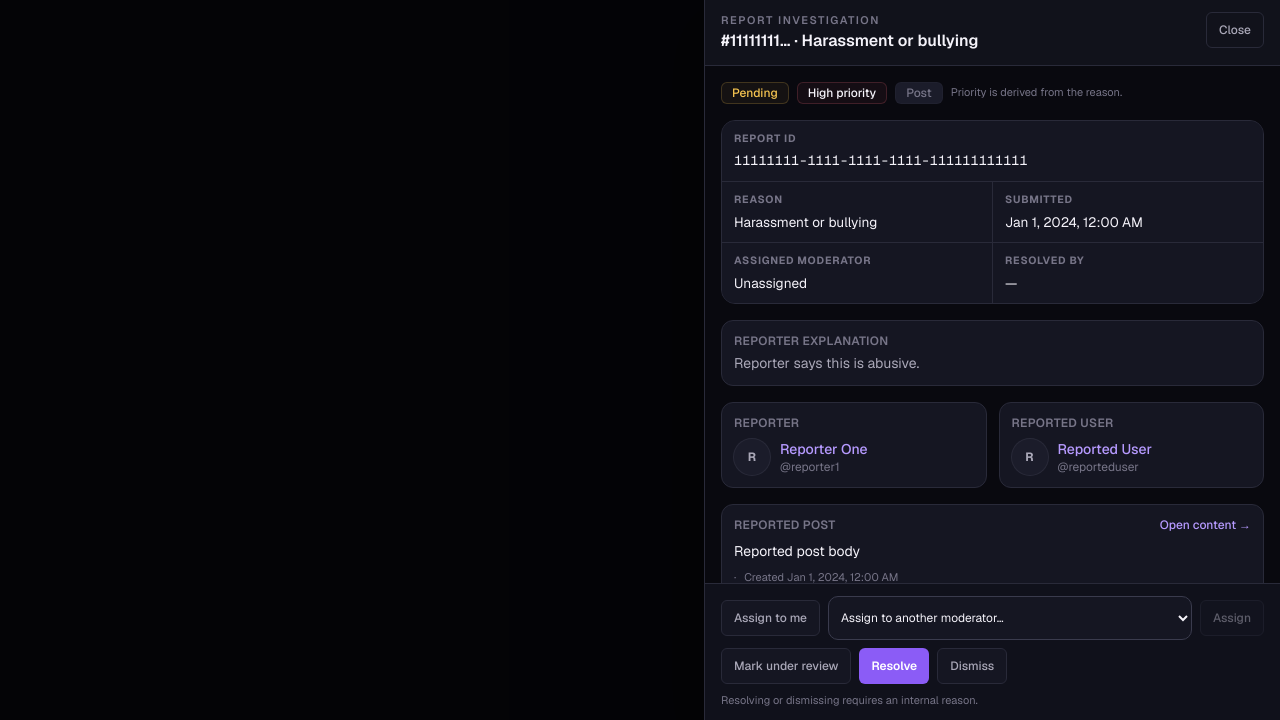
ReportDetailPanel › requires a reason before resolving
The image size is (1280, 720).
Step 1. Click the button "Resolve" → (894, 666), box [860,648,929,684]
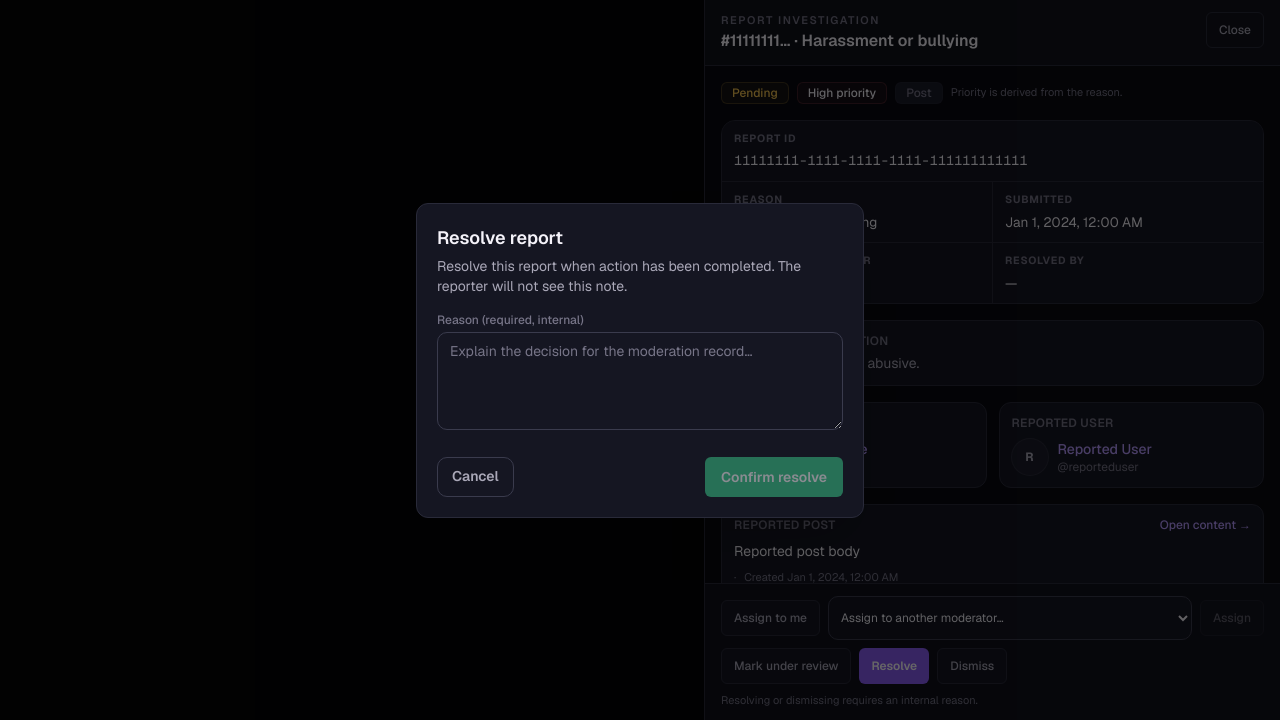
Result: the button "Confirm resolve" is disabled at [705,456,843,496]
